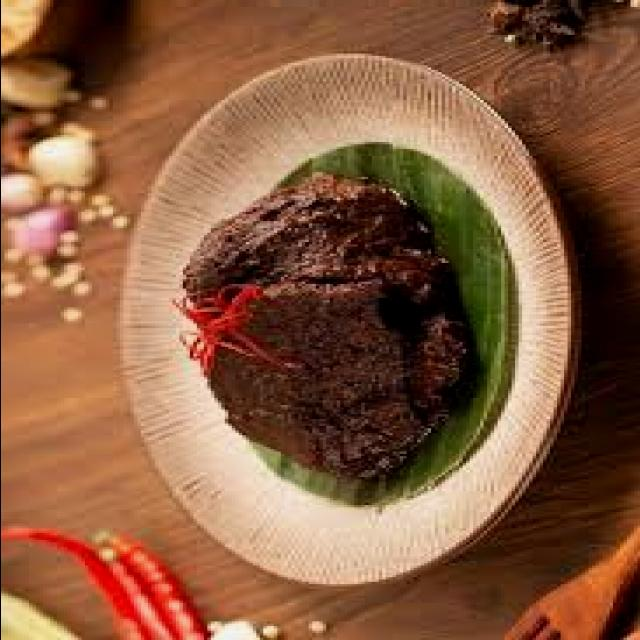rendang: (175, 170, 476, 489)
